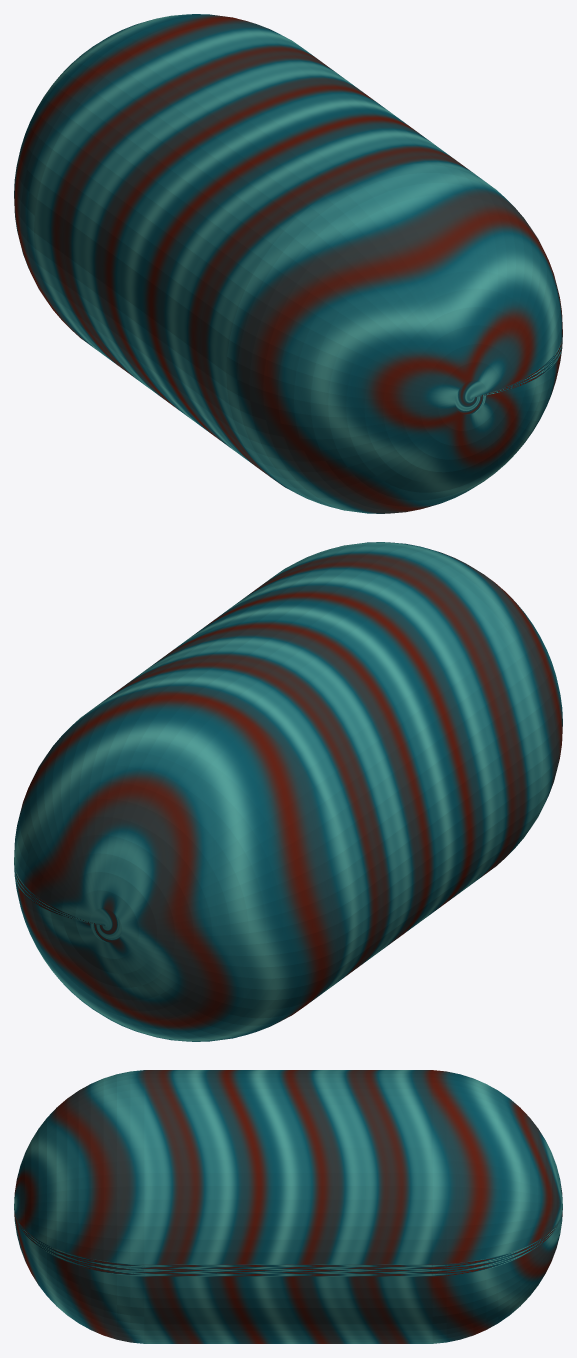
File: capsule-ocean-c1.glb
3 views of the same model, one above another, from view 1: azimuth 30°, elevation 25°; view 2: azimuth 150°, elevation 25°; view 3: azimuth 270°, elevation 25° (orthographic). The views are drawn at different scales.
Visible parts, largest first — view 1: world; view 2: world; view 3: world.
Part boxes in pixels (left/top/right/bottom): world: left=14, top=14, right=562, bottom=513; world: left=14, top=542, right=562, bottom=1041; world: left=14, top=1070, right=562, bottom=1343.
Bounding box in the file's own units: 0.6991 × 0.6991 × 1.4.
1 material, 1 textured.
